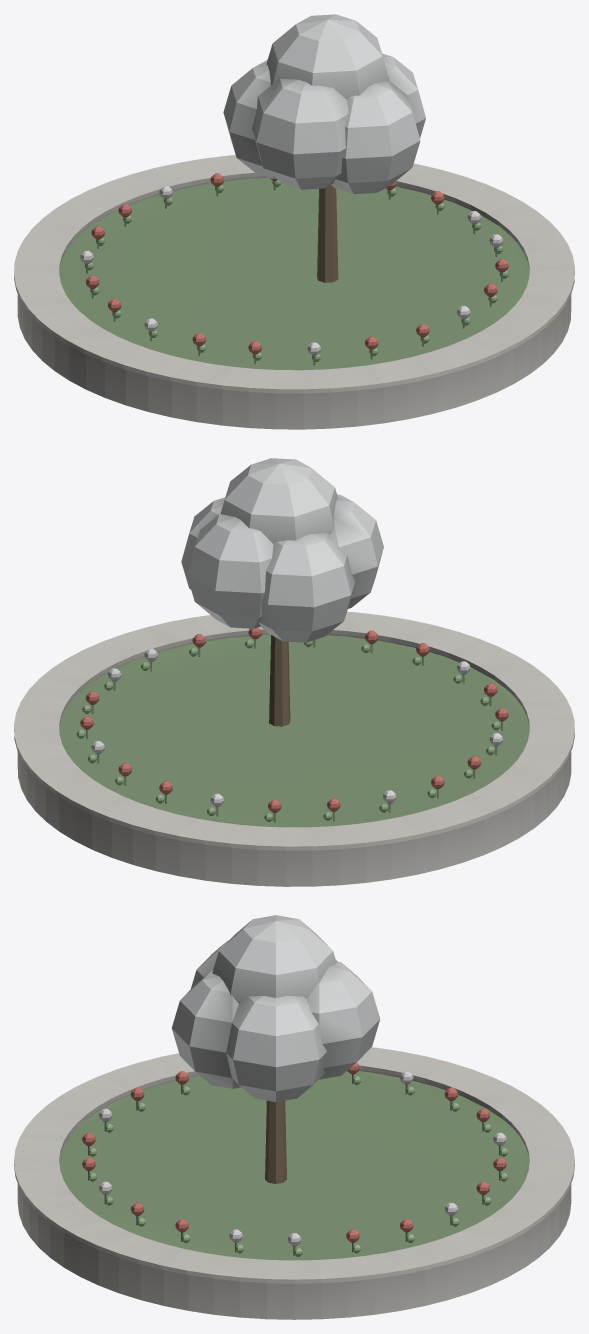
File: plaza_garden_round_winter.glb
3 renders of one model, top to bottom at view 1: azimuth 30°, elevation 25°; view 2: azimuth 150°, elevation 25°; view 3: azimuth 270°, elevation 25°, orthographic.
Size of the model in its own units: 6.08 by 3.51 by 6.08.
